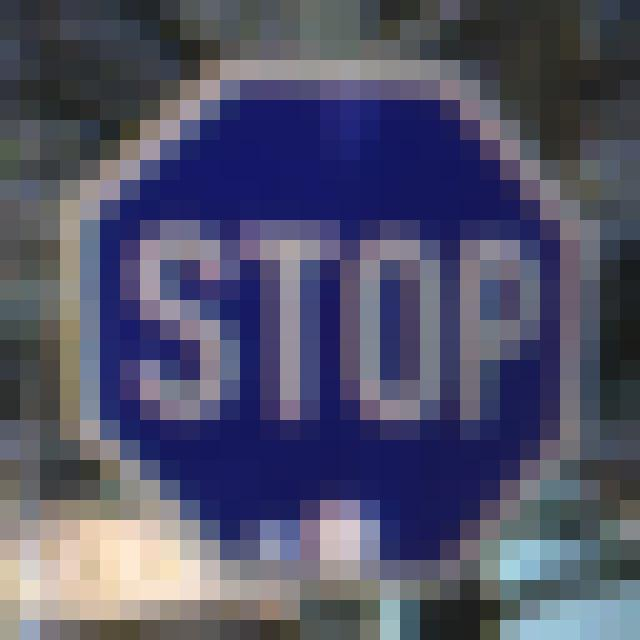STOP: (86, 78, 575, 568)
